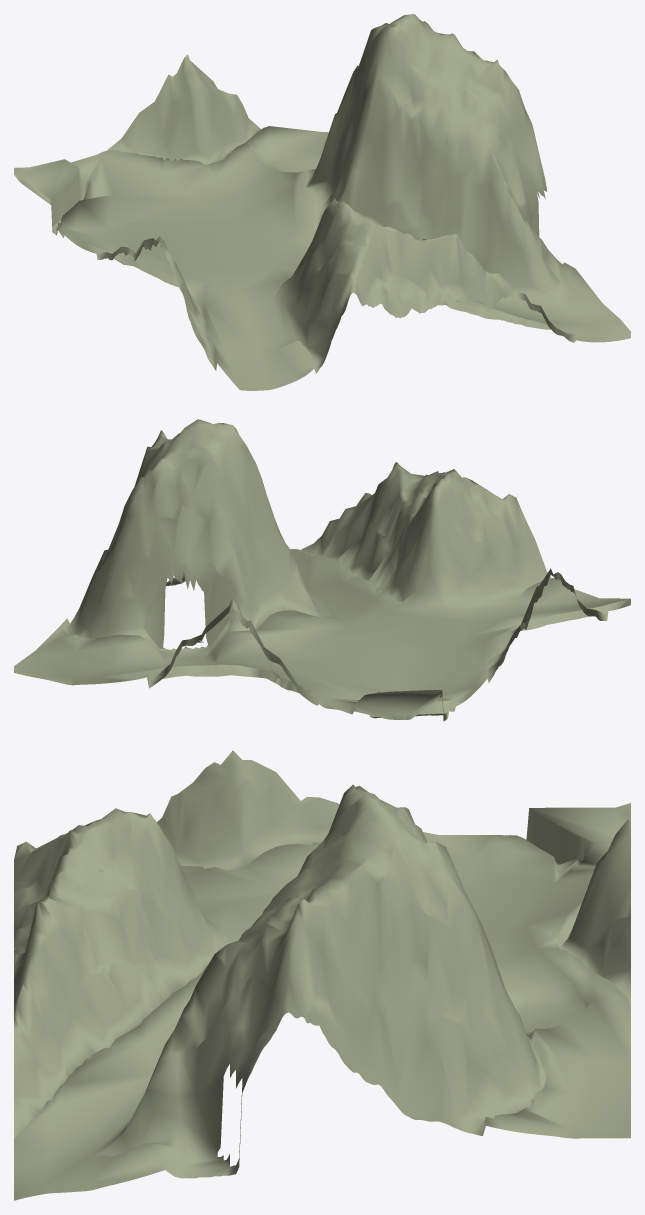
Rendered from terrain_r2_c1_lod1.glb.
3 views of the same model, one above another, from view 1: azimuth 30°, elevation 25°; view 2: azimuth 150°, elevation 25°; view 3: azimuth 270°, elevation 25° (orthographic). The views are drawn at different scales.
Parts seen in each view (by area): view 1: terrain_r2_c1_lod1; view 2: terrain_r2_c1_lod1; view 3: terrain_r2_c1_lod1.
Part boxes in pixels (<box>): terrain_r2_c1_lod1: <box>14,14,630,390</box>; terrain_r2_c1_lod1: <box>14,419,630,721</box>; terrain_r2_c1_lod1: <box>14,750,630,1200</box>.
Size of the model in its own units: 50 by 30.61 by 50.
